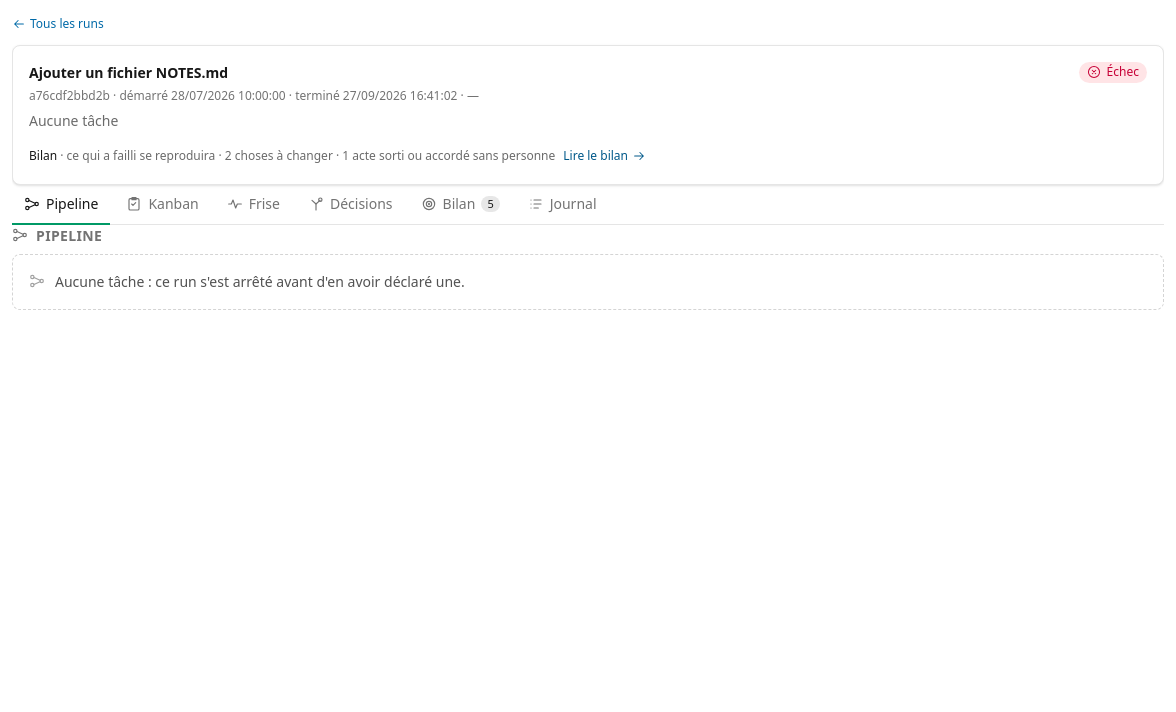
it: les pièces d'un constat › s'ouvrent dans le journal sur leurs seules entrées, et le journal entier revient
Click the button "Bilan 5" at x=460, y=205, box [408,185,512,225]
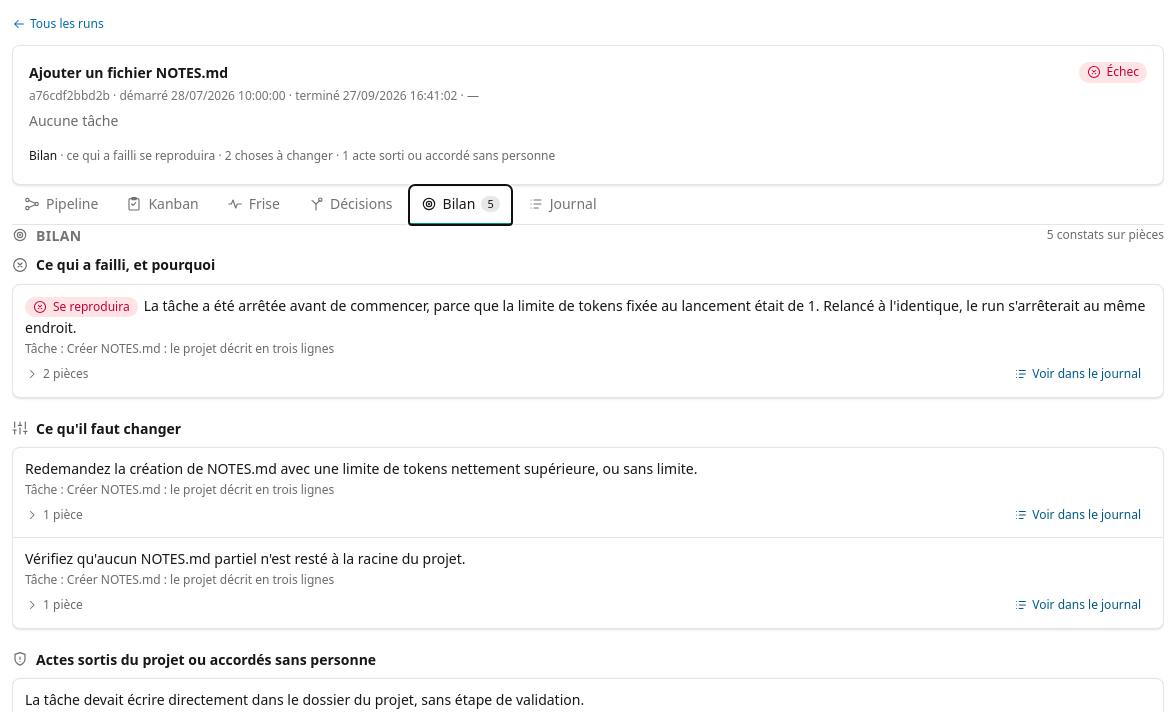
Click the button "2 pièces" at x=57, y=374, box [25,362,88,386]
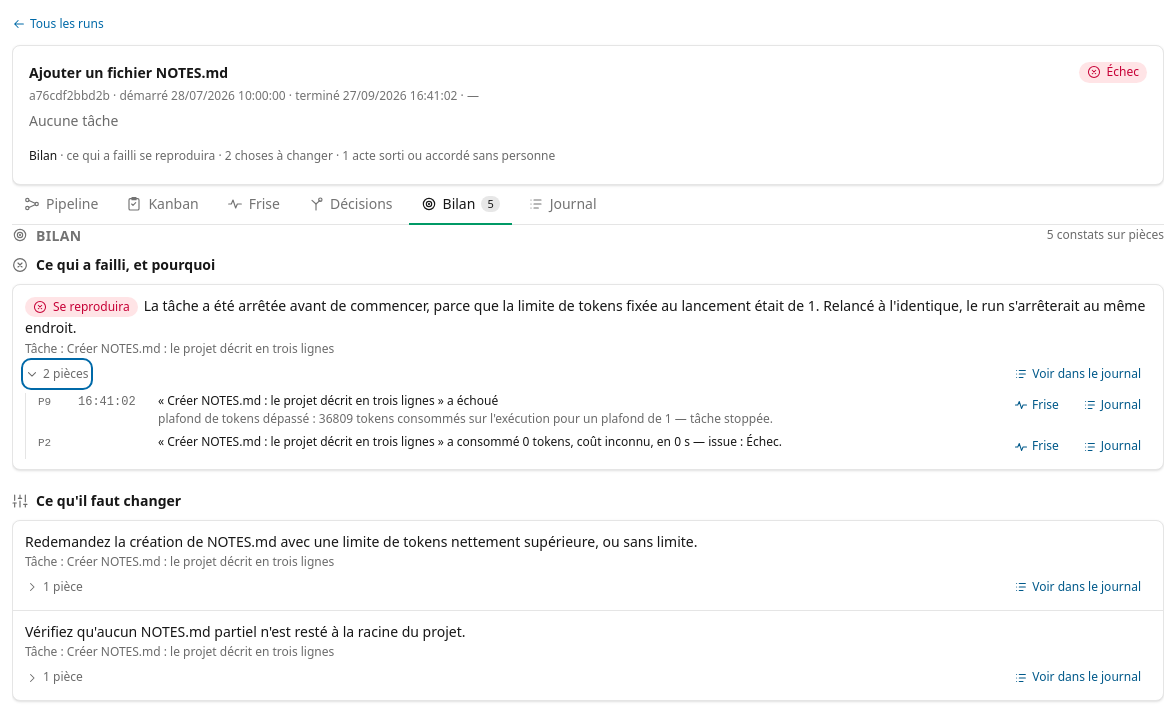
Click the button with aria-label "Voir la pièce P9 dans le journal" at x=1112, y=405, box [1073,393,1151,417]
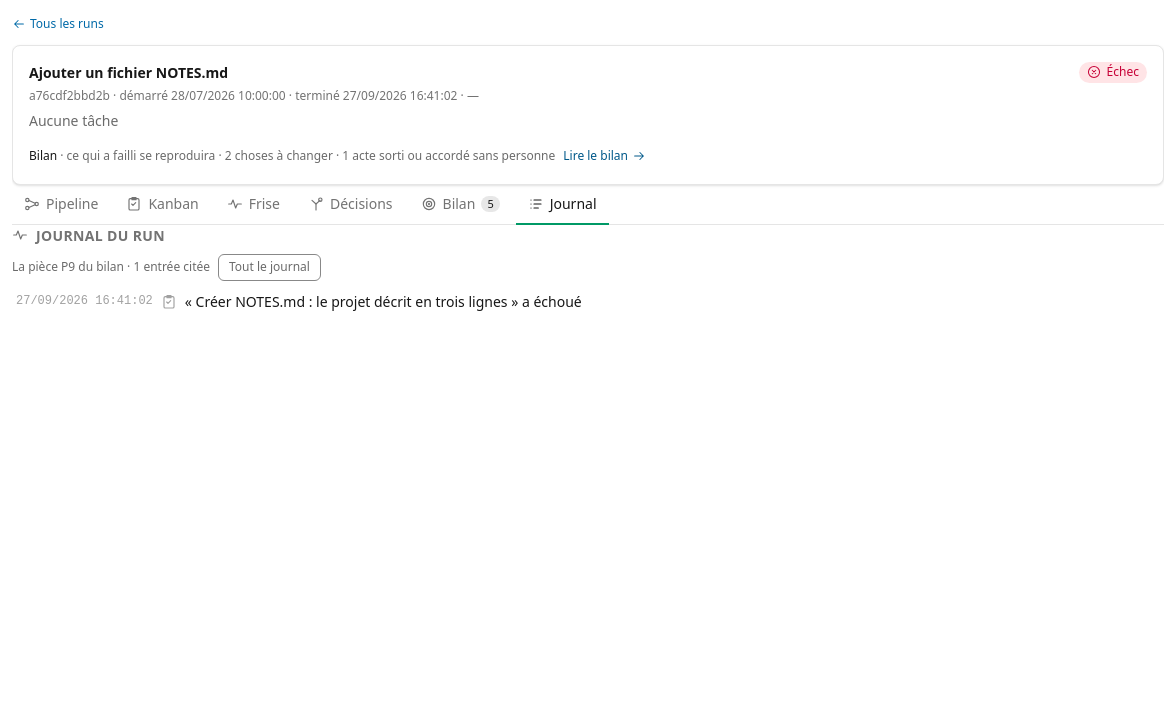
Check: the text "La pièce P9 du bilan · 1 entrée citée" is shown, box [12,259,210,276]
Check: the number of list items is 1, box [12,289,1164,315]
Click the button "Tout le journal" at x=269, y=268, box [218,254,321,281]
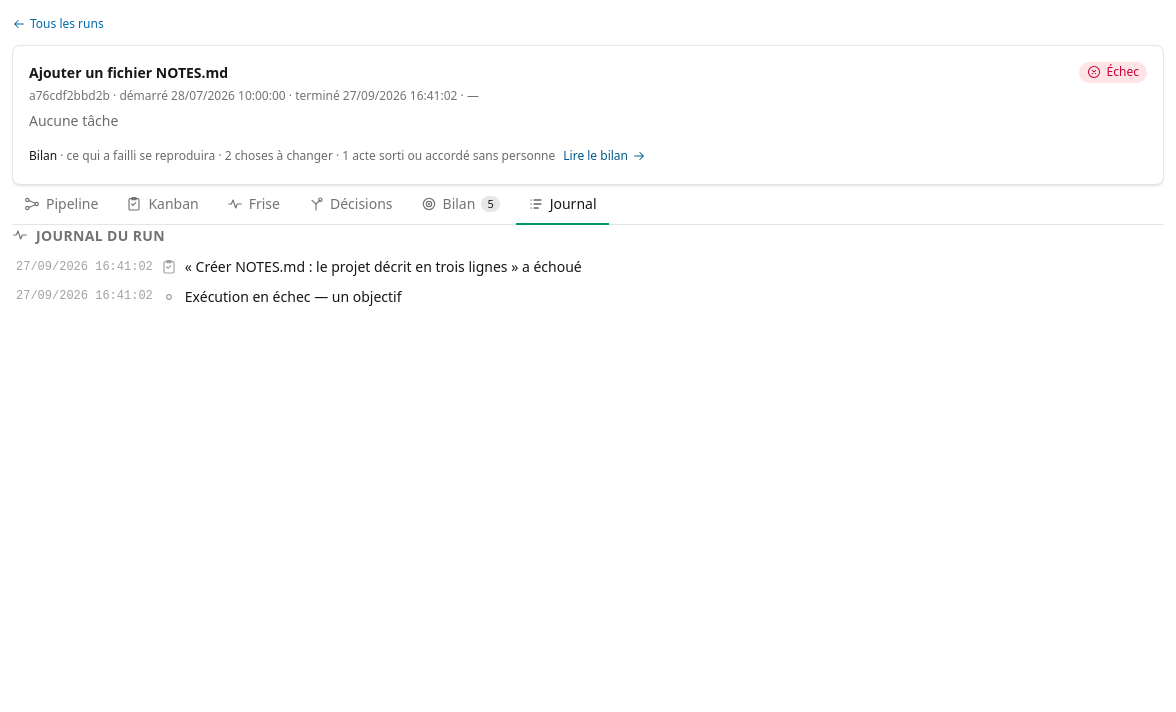
Check: the number of list items is 2, box [12,254,1164,280]; [12,284,1164,309]
Check: the text "du bilan ·" is gone
